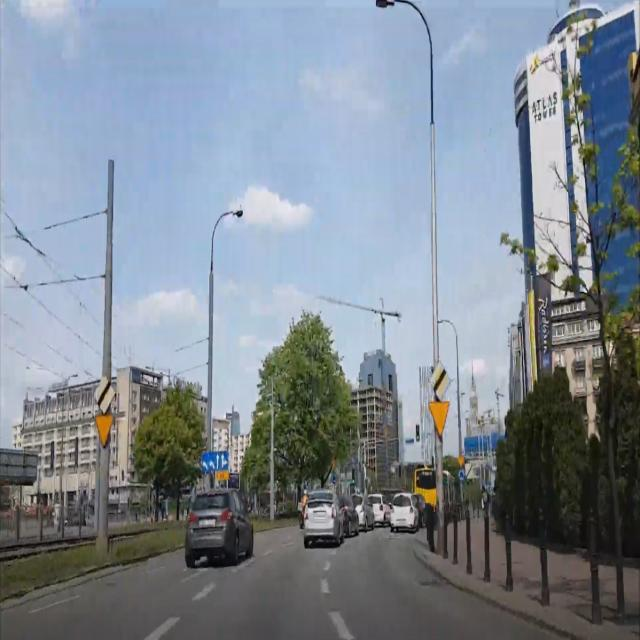Ustap pierwszenstwa: (428, 400, 450, 436), (94, 414, 115, 447), (457, 454, 464, 466)
